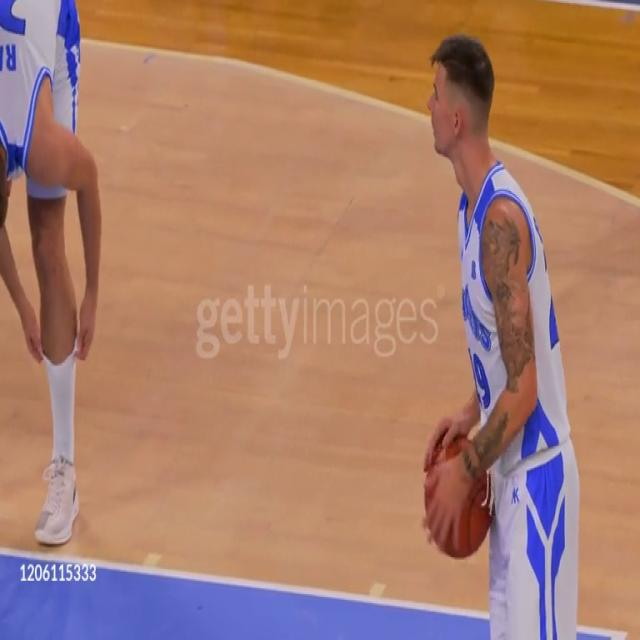ball: (423, 437, 496, 560)
